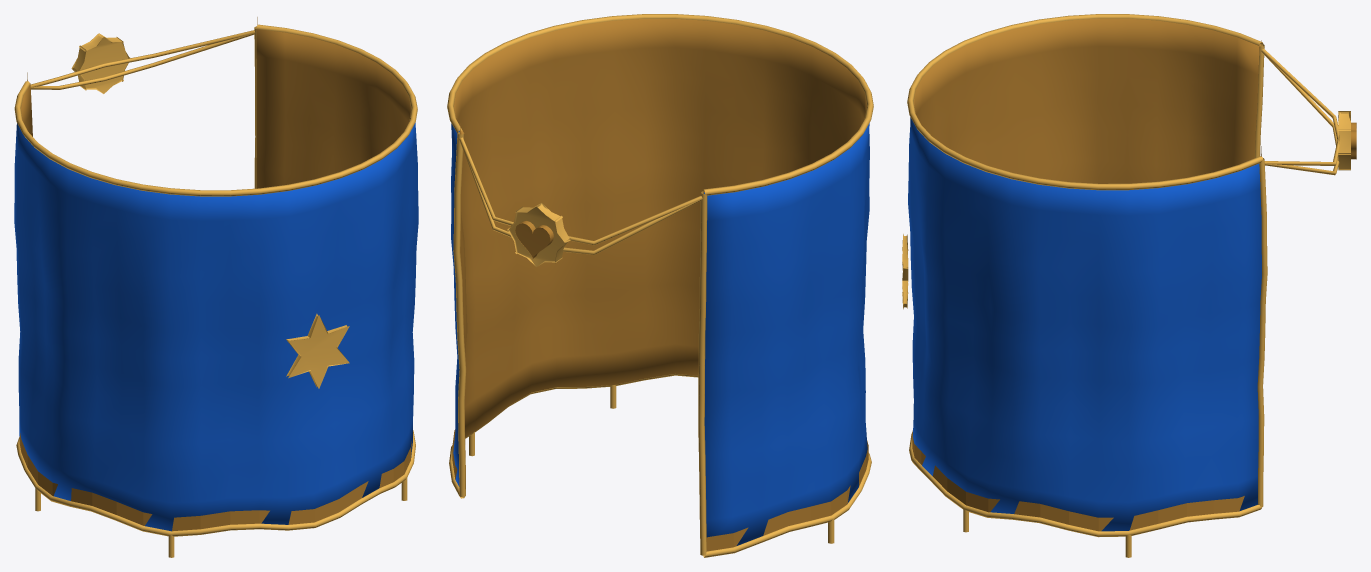
Rendered from royal-capes-bishop.glb.
3 views of the same model, side by side, from view 1: azimuth 30°, elevation 25°; view 2: azimuth 150°, elevation 25°; view 3: azimuth 270°, elevation 25° (orthographic). The views are drawn at different scales.
Visible parts, largest first — view 1: tailored_cloth, broad_embroidered_hem, tailored_gold_binding, tailored_gold_binding.001, back_heraldry, brooch_gold, clasp_chain, clasp_chain.001; view 2: tailored_cloth, tailored_gold_binding, tailored_gold_binding.003, tailored_gold_binding.002, broad_embroidered_hem, tailored_gold_binding.001, brooch_gold, clasp_chain, clasp_chain.001, brooch_jewel; view 3: tailored_cloth, tailored_gold_binding, broad_embroidered_hem, tailored_gold_binding.001, tailored_gold_binding.002, clasp_chain, brooch_gold, clasp_chain.001, tailored_gold_binding.003.
Part boxes in pixels (<box>): tailored_cloth: <box>14,29,418,531</box>; broad_embroidered_hem: <box>19,433,411,531</box>; tailored_gold_binding: <box>14,24,417,196</box>; tailored_gold_binding.001: <box>16,430,415,536</box>; back_heraldry: <box>286,313,349,388</box>; brooch_gold: <box>71,33,130,93</box>; clasp_chain: <box>30,30,254,87</box>; clasp_chain.001: <box>31,33,254,89</box>; tailored_cloth: <box>451,19,869,545</box>; tailored_gold_binding: <box>447,14,873,195</box>; tailored_gold_binding.003: <box>698,191,707,555</box>; tailored_gold_binding.002: <box>453,132,465,496</box>; broad_embroidered_hem: <box>452,429,868,551</box>; tailored_gold_binding.001: <box>449,373,871,557</box>; brooch_gold: <box>507,202,570,266</box>; clasp_chain: <box>459,137,702,245</box>; clasp_chain.001: <box>460,142,702,254</box>; brooch_jewel: <box>515,221,553,259</box>; tailored_cloth: <box>908,18,1261,531</box>; tailored_gold_binding: <box>907,14,1263,190</box>; broad_embroidered_hem: <box>912,430,1244,531</box>; tailored_gold_binding.001: <box>909,432,1262,537</box>; tailored_gold_binding.002: <box>1257,158,1267,506</box>; clasp_chain: <box>1261,49,1339,165</box>; brooch_gold: <box>1338,111,1350,170</box>; clasp_chain.001: <box>1262,52,1339,175</box>; tailored_gold_binding.003: <box>1255,44,1264,157</box>.
Bounding box in the file's own units: 0.4803 × 0.4998 × 0.5345.
